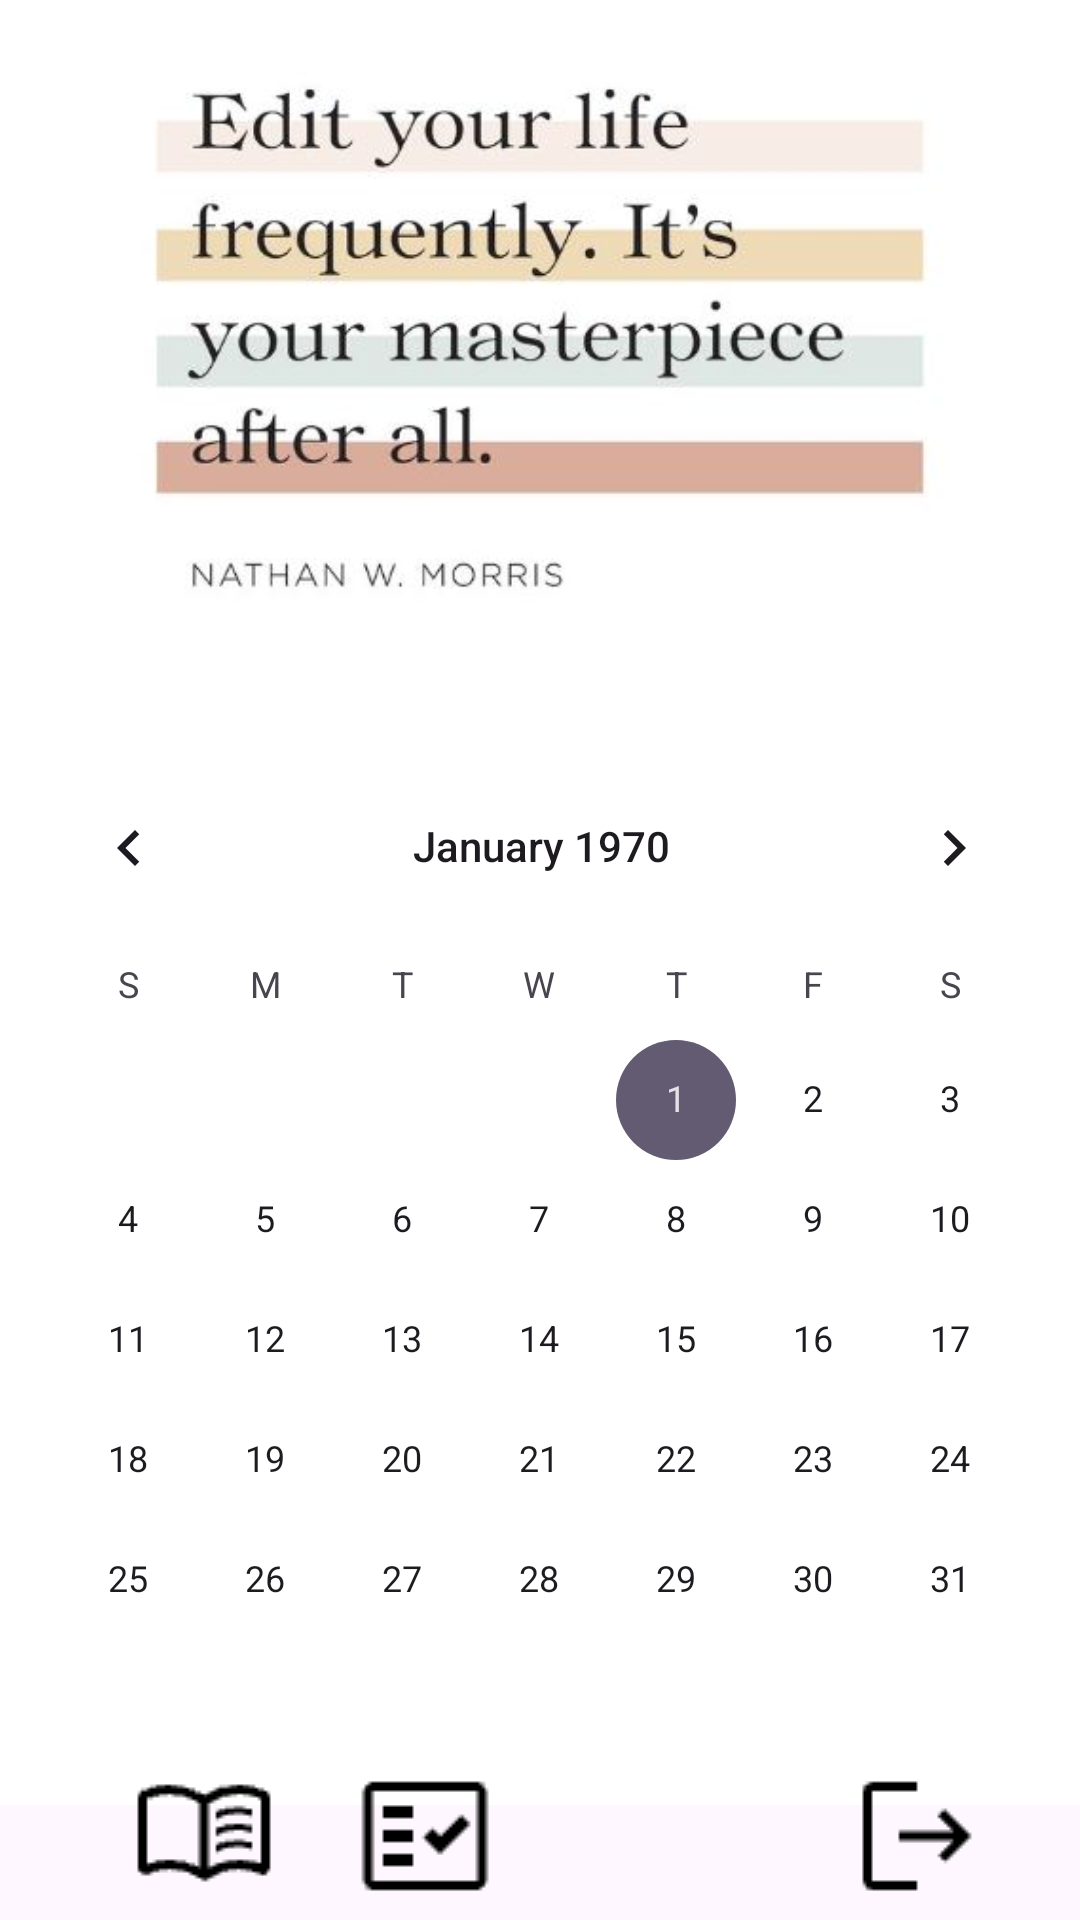

Screen size 1080*1920. Icon name, then its box in pixels as BBox(x1, y1, x2, y2):
Add New Journal: BBox(137, 1784, 271, 1882)
list: BBox(361, 1781, 489, 1891)
